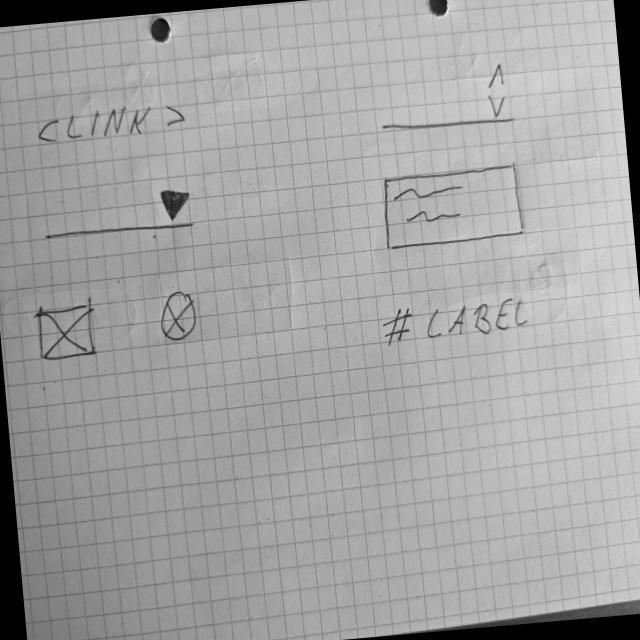image: (34, 296, 101, 367), (156, 288, 201, 345)
label: (380, 294, 533, 348)
link: (35, 101, 190, 149)
number-input: (375, 58, 519, 138)
select: (40, 185, 199, 244)
textarea: (378, 160, 528, 253)
